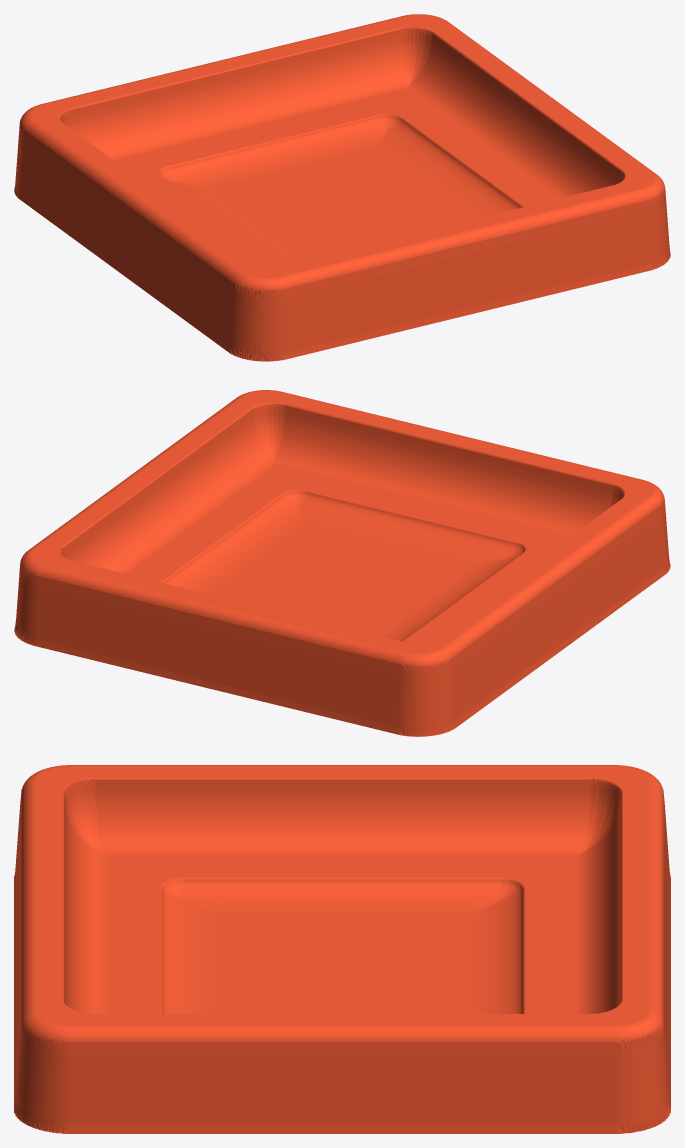
File: mold.glb
3 renders of one model, top to bottom at view 1: azimuth 30°, elevation 25°; view 2: azimuth 150°, elevation 25°; view 3: azimuth 270°, elevation 25°, orthographic. The views are drawn at different scales.
Visible parts, largest first — view 1: geometry_0; view 2: geometry_0; view 3: geometry_0.
Boxes of the visible parts, x1=… form: geometry_0: x1=14, y1=14, x2=670, y2=361; geometry_0: x1=14, y1=390, x2=670, y2=736; geometry_0: x1=14, y1=765, x2=670, y2=1133.
Size of the model in its own units: 0.105 by 0.0175 by 0.105.
